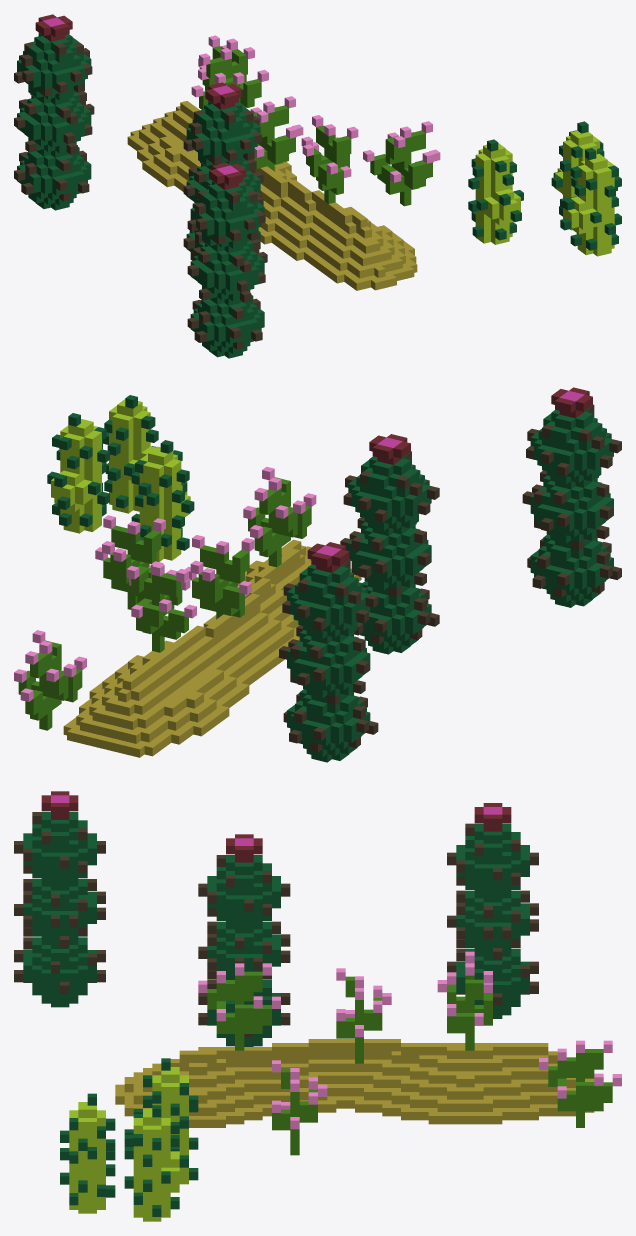
Rendered from cacti_3_overtile.obj.
3 renders of one model, top to bottom at view 1: azimuth 30°, elevation 25°; view 2: azimuth 150°, elevation 25°; view 3: azimuth 270°, elevation 25°, orthographic. The views are drawn at different scales.
Size of the model in its own units: 6.3 by 2.4 by 6.6.
1 material, 1 textured.
